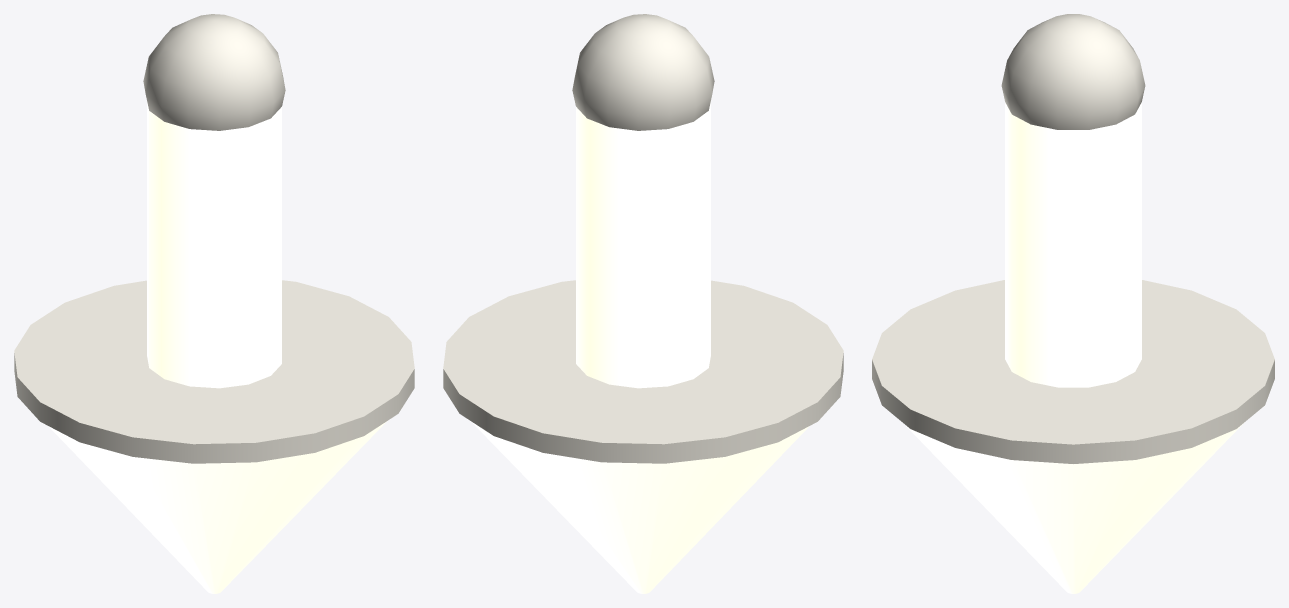
File: SM_TutorialArrow.fbx
3 views of the same model, side by side, from view 1: azimuth 30°, elevation 25°; view 2: azimuth 150°, elevation 25°; view 3: azimuth 270°, elevation 25° (orthographic).
Parts seen in each view (by area): view 1: SM_TutorialArrow; view 2: SM_TutorialArrow; view 3: SM_TutorialArrow.
Part boxes in pixels (<box>): SM_TutorialArrow: <box>14,14,414,593</box>; SM_TutorialArrow: <box>443,14,843,593</box>; SM_TutorialArrow: <box>872,14,1274,593</box>.
Size of the model in its own units: 0.224 by 0.35 by 0.224.
